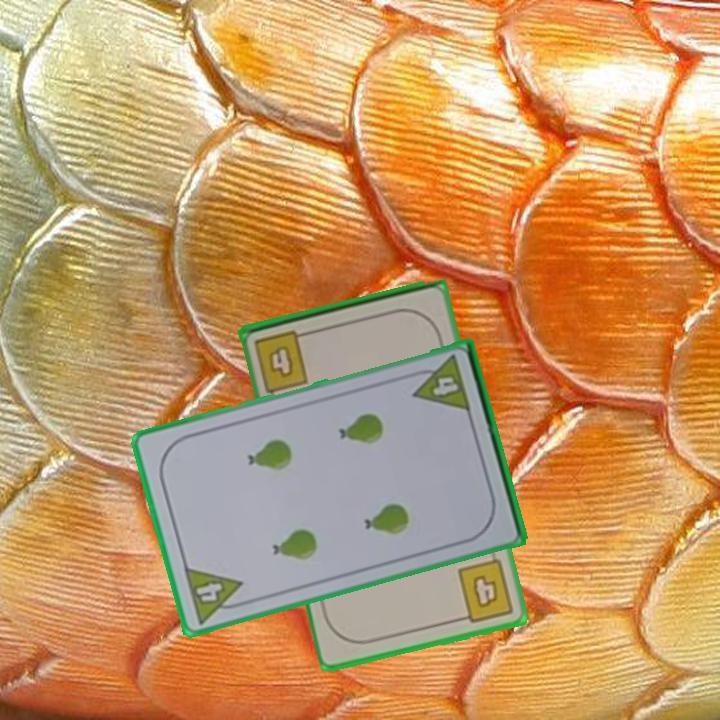4b: (250, 326, 315, 395), (454, 555, 518, 625)
4p: (180, 563, 250, 627), (405, 352, 474, 416)
